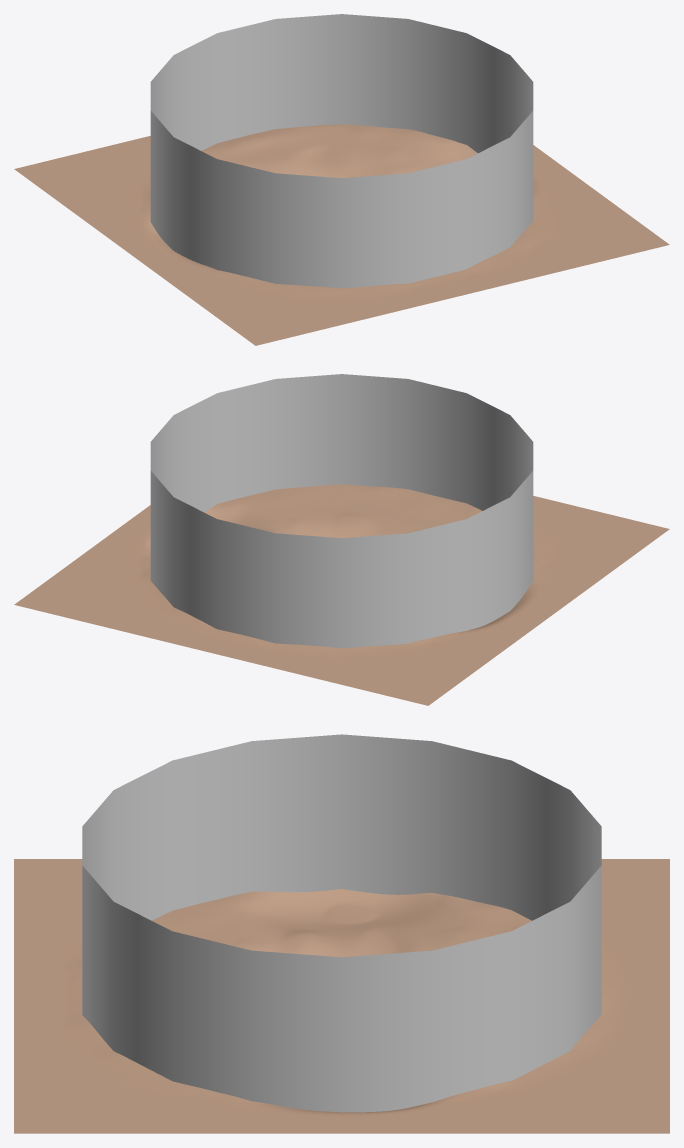
Rendered from Arena3.FBX.
3 renders of one model, top to bottom at view 1: azimuth 30°, elevation 25°; view 2: azimuth 150°, elevation 25°; view 3: azimuth 270°, elevation 25°, orthographic. The views are drawn at different scales.
Visible parts, largest first — view 1: Cylinder001, Plane001; view 2: Cylinder001, Plane001; view 3: Cylinder001, Plane001.
Boxes of the visible parts, x1,y1,x2,y2 form: Cylinder001: (150,14,533,288); Plane001: (14,124,669,345); Cylinder001: (150,374,533,648); Plane001: (14,484,669,705); Cylinder001: (82,734,601,1112); Plane001: (14,859,669,1133).
Size of the model in its own units: 2970 by 3000 by 902.
